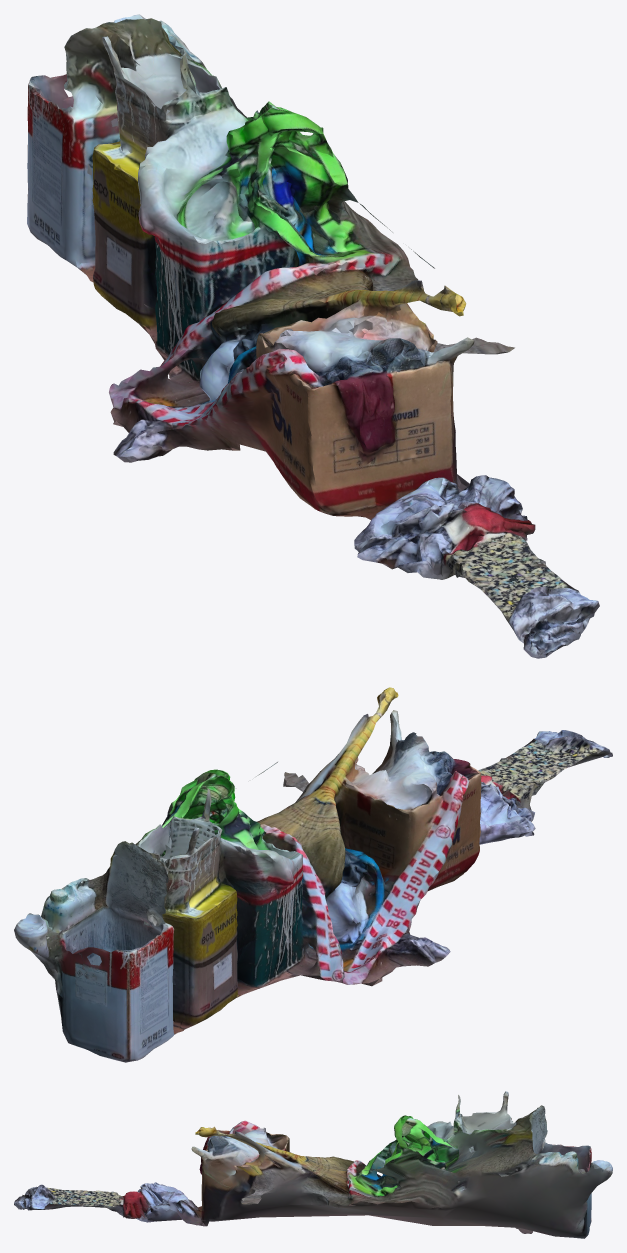
The model's file is jim3.gltf.
The picture shows the model from 3 angles, top to bottom: view 1: azimuth 30°, elevation 25°; view 2: azimuth 150°, elevation 25°; view 3: azimuth 270°, elevation 25°; orthographic projection. The views are drawn at different scales.
Visible parts, largest first — view 1: Default; view 2: Default; view 3: Default.
Boxes of the visible parts, <box> form: Default: <box>27,14,599,658</box>; Default: <box>14,687,612,1062</box>; Default: <box>14,1091,612,1238</box>.
Size of the model in its own units: 0.00109 by 0.000913 by 0.00354.
1 material, 1 textured.
